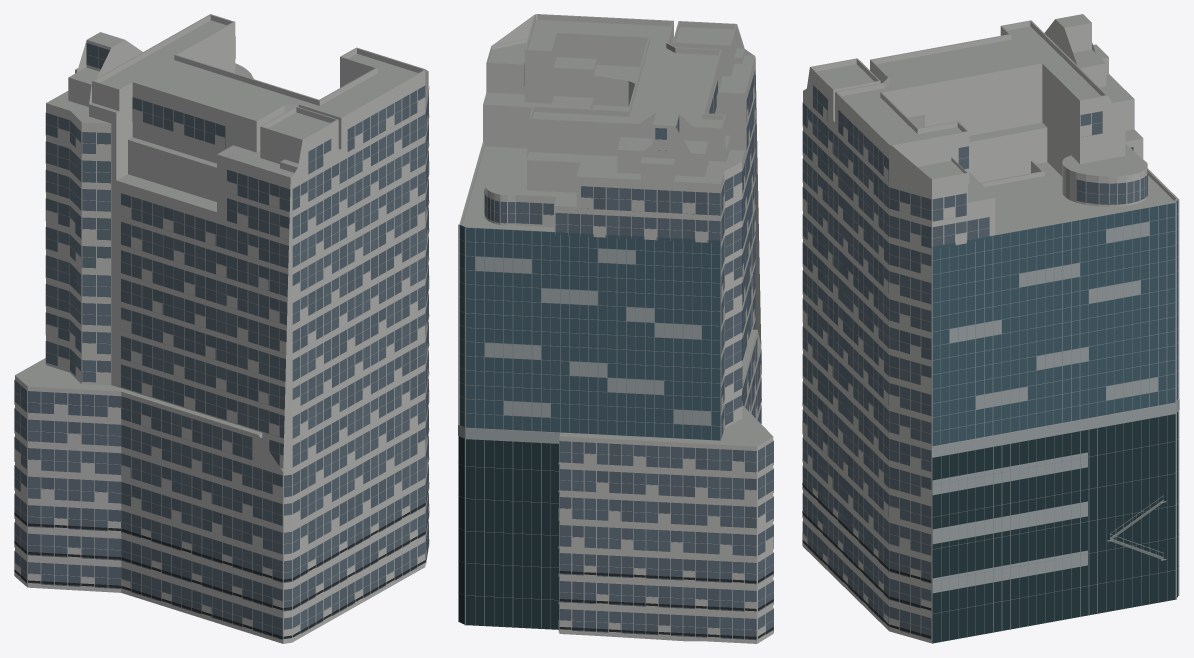
File: fukuras.glb
The picture shows the model from 3 angles, left to right: view 1: azimuth 30°, elevation 25°; view 2: azimuth 150°, elevation 25°; view 3: azimuth 270°, elevation 25°; orthographic projection. The views are drawn at different scales.
Parts seen in each view (by area): view 1: fukuras_wall, fukuras_glass1, fukuras_glass0, fukuras_glass2, fukuras_spandrel, fukuras_roof, fukuras_frame, fukuras_sign_housing; view 2: fukuras_curtain_glass, fukuras_wall, fukuras_roof, fukuras_circulation_glass, fukuras_glass2, fukuras_glass1, fukuras_spandrel, fukuras_mullion_silver, fukuras_glass0, fukuras_infill_silver, fukuras_frame, fukuras_sign_housing; view 3: fukuras_curtain_glass, fukuras_wall, fukuras_circulation_glass, fukuras_roof, fukuras_glass1, fukuras_infill_silver, fukuras_mullion_silver, fukuras_glass0, fukuras_spandrel, fukuras_glass2, fukuras_frame, fukuras_sign_housing.
Part boxes in pixels (bbox=[...]): fukuras_wall: bbox=[15, 15, 428, 643]; fukuras_glass1: bbox=[14, 43, 428, 639]; fukuras_glass0: bbox=[14, 47, 428, 629]; fukuras_glass2: bbox=[14, 97, 428, 633]; fukuras_spandrel: bbox=[14, 65, 429, 643]; fukuras_roof: bbox=[15, 14, 425, 471]; fukuras_frame: bbox=[14, 36, 428, 633]; fukuras_sign_housing: bbox=[14, 482, 429, 638]; fukuras_curtain_glass: bbox=[459, 225, 720, 440]; fukuras_wall: bbox=[459, 14, 773, 643]; fukuras_roof: bbox=[459, 14, 772, 446]; fukuras_circulation_glass: bbox=[459, 436, 559, 629]; fukuras_glass2: bbox=[484, 69, 773, 639]; fukuras_glass1: bbox=[485, 63, 773, 640]; fukuras_spandrel: bbox=[484, 86, 773, 643]; fukuras_mullion_silver: bbox=[459, 224, 720, 629]; fukuras_glass0: bbox=[487, 73, 773, 637]; fukuras_infill_silver: bbox=[458, 224, 720, 625]; fukuras_frame: bbox=[484, 73, 773, 637]; fukuras_sign_housing: bbox=[558, 570, 773, 639]; fukuras_curtain_glass: bbox=[932, 199, 1178, 446]; fukuras_wall: bbox=[803, 19, 1178, 643]; fukuras_circulation_glass: bbox=[932, 411, 1178, 643]; fukuras_roof: bbox=[803, 14, 1177, 234]; fukuras_glass1: bbox=[802, 85, 1144, 636]; fukuras_infill_silver: bbox=[932, 199, 1179, 643]; fukuras_mullion_silver: bbox=[932, 199, 1178, 641]; fukuras_glass0: bbox=[802, 90, 1147, 612]; fukuras_spandrel: bbox=[802, 106, 1147, 642]; fukuras_glass2: bbox=[802, 113, 1147, 639]; fukuras_frame: bbox=[803, 85, 1145, 636]; fukuras_sign_housing: bbox=[802, 483, 931, 638].
Size of the model in its own units: 73.79 by 105 by 71.1.
